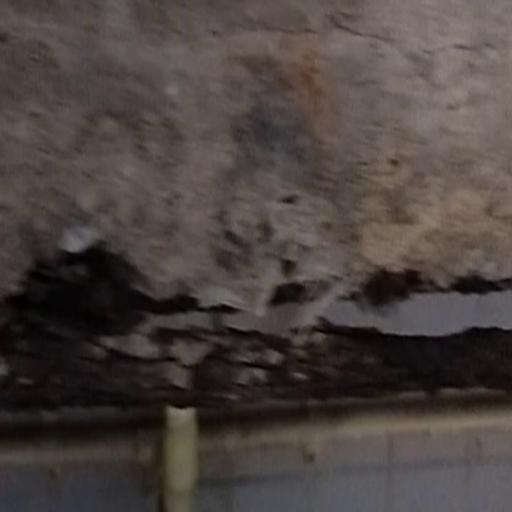spalling: (14, 221, 512, 472)
